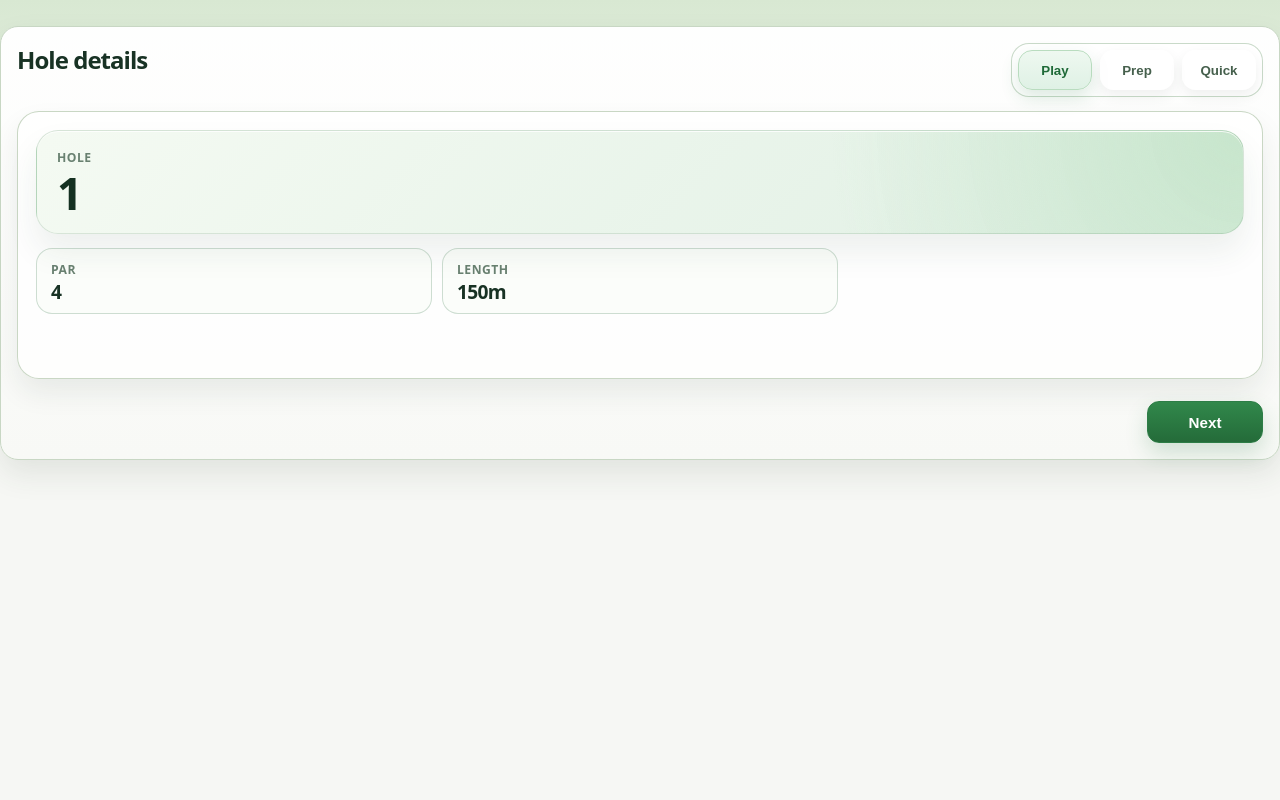
Test: VirtualCaddyPanel › updates the recommendation when advanced context changes
What coordinates should you click on to do the following:
click the button "Next"
I would click on:
 (1205, 422)
Its box is [1147,401,1263,443].
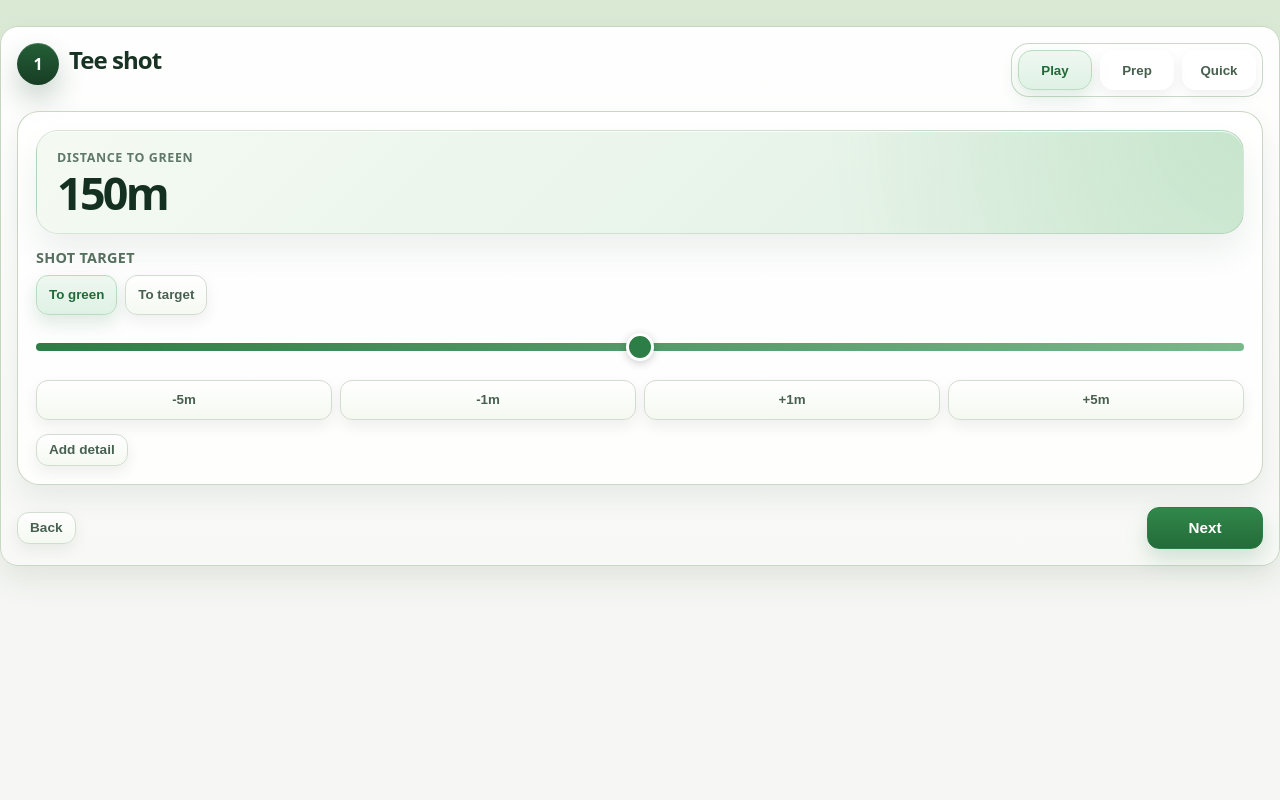
What coordinates should you click on to do the following:
click the button "Add detail"
I would click on:
 (82, 450)
Its box is [36,434,128,466].
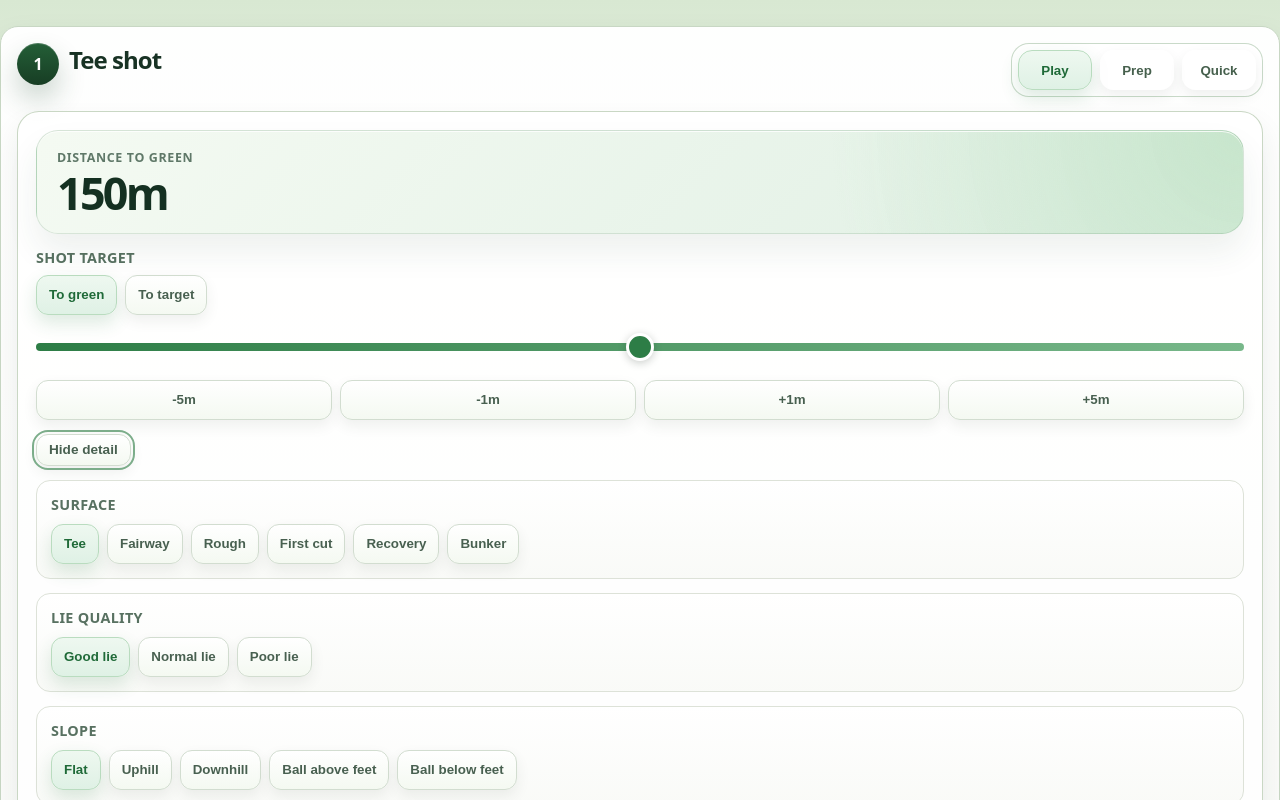
What coordinates should you click on to do the following:
click the button "Rough"
I would click on:
 (225, 544)
Its box is [191,524,259,564].
(page scrolled)
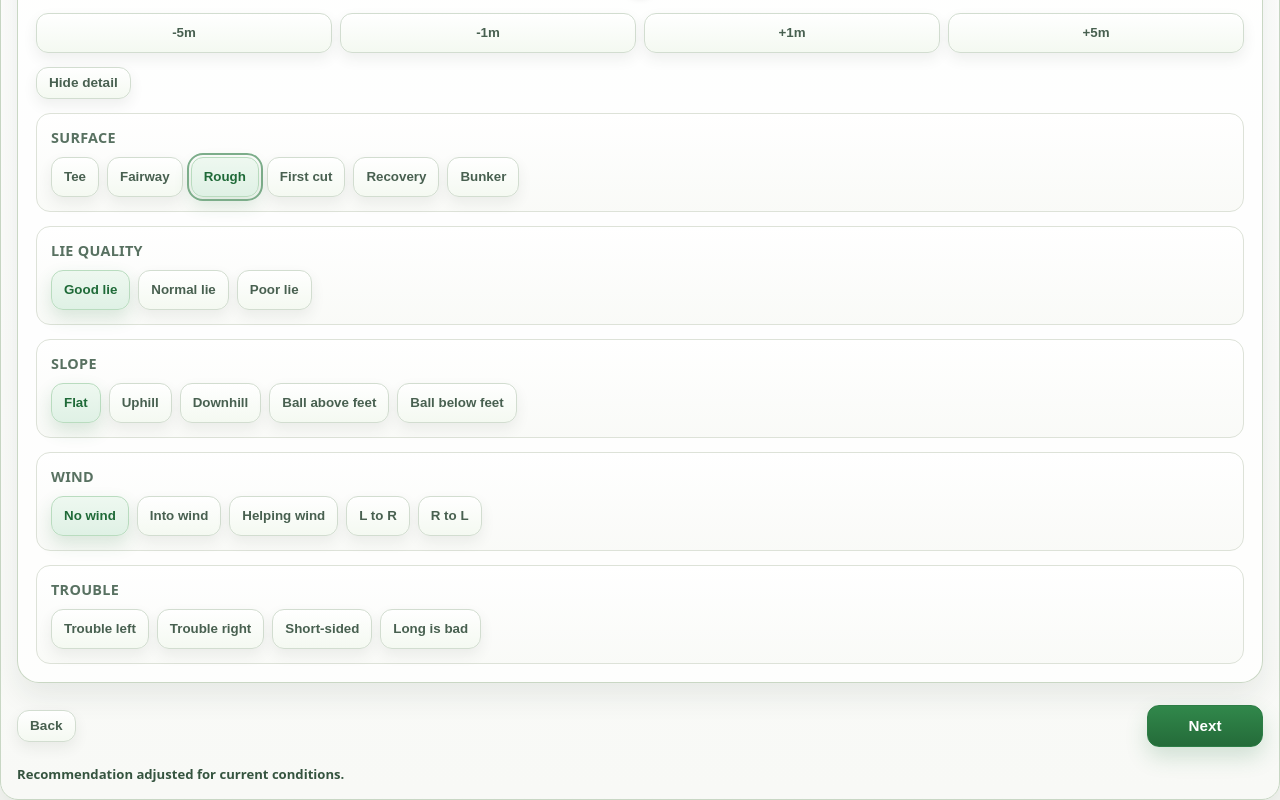
What coordinates should you click on to do the following:
click the button "Uphill"
I would click on:
 (140, 402)
Its box is [109,382,172,422].
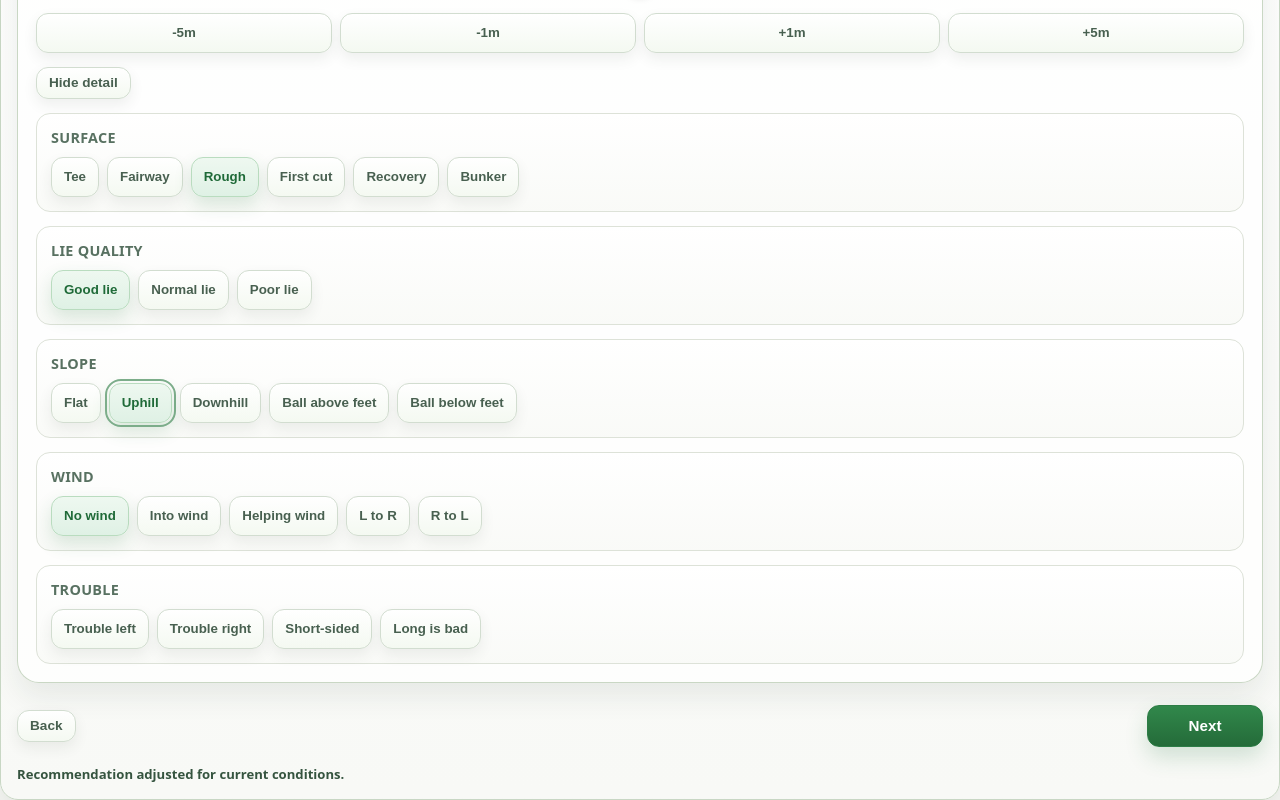
What coordinates should you click on to do the following:
click the button "Trouble left"
I would click on:
 (100, 628)
Its box is [51,608,149,648].
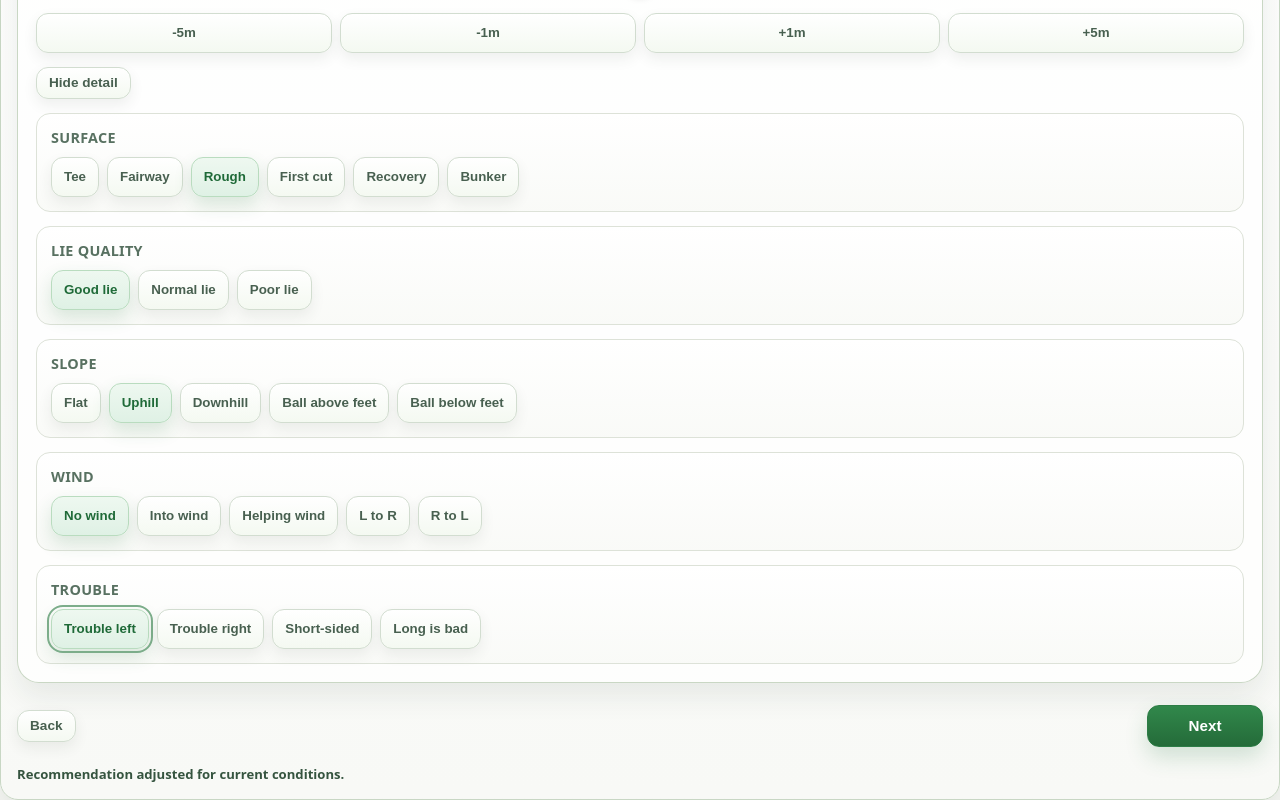
What coordinates should you click on to do the following:
click the button "Next"
I would click on:
 (1205, 726)
Its box is [1147,704,1263,746].
(page scrolled)
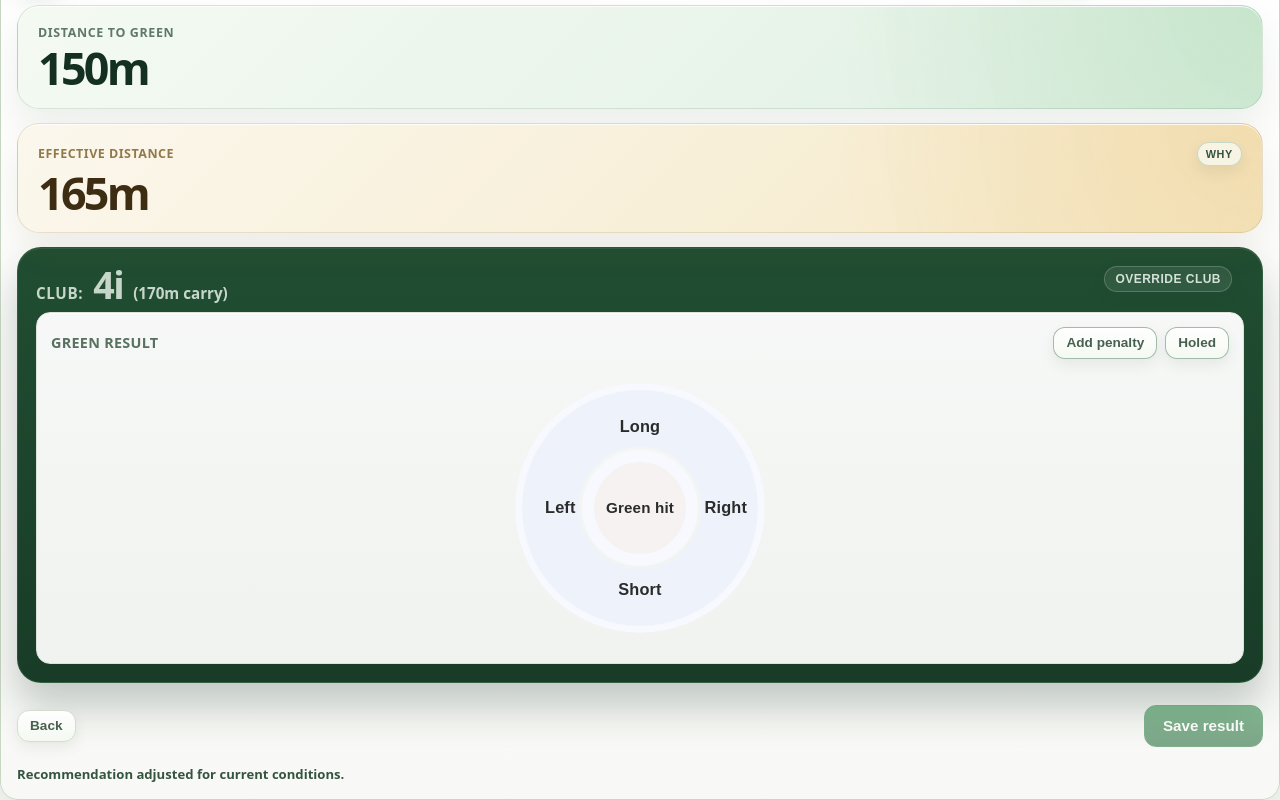
Now the text "Recommendation adjusted for current conditions." is shown, box [17,765,344,783]
Now the text "(170m carry)" is shown, box [133,285,228,302]
Now the text "Effective distance" is shown, box [38,145,174,162]
